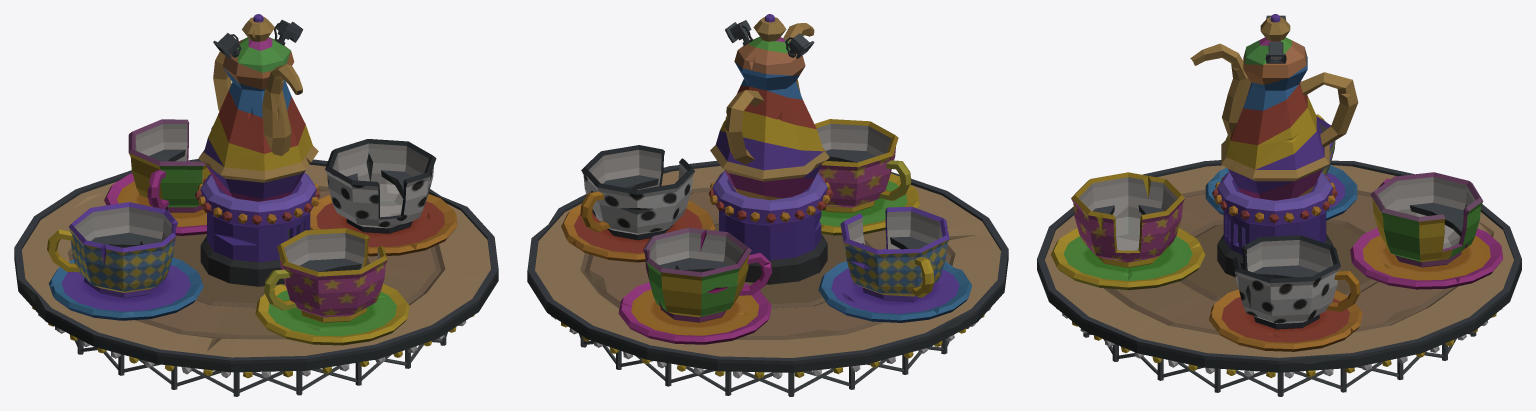
Rendered from SM_Prop_Teacup_Ride_01.glb.
3 views of the same model, side by side, from view 1: azimuth 30°, elevation 25°; view 2: azimuth 150°, elevation 25°; view 3: azimuth 270°, elevation 25° (orthographic).
Parts seen in each view (by area): view 1: SM_Prop_Teacup_Ride_01; view 2: SM_Prop_Teacup_Ride_01; view 3: SM_Prop_Teacup_Ride_01.
Part boxes in pixels (x1=…): SM_Prop_Teacup_Ride_01: x1=14, y1=14, x2=498, y2=396; SM_Prop_Teacup_Ride_01: x1=527, y1=14, x2=1008, y2=396; SM_Prop_Teacup_Ride_01: x1=1037, y1=14, x2=1521, y2=396.
Bounding box in the file's own units: 833 × 561 × 833.
1 material, 1 textured.
